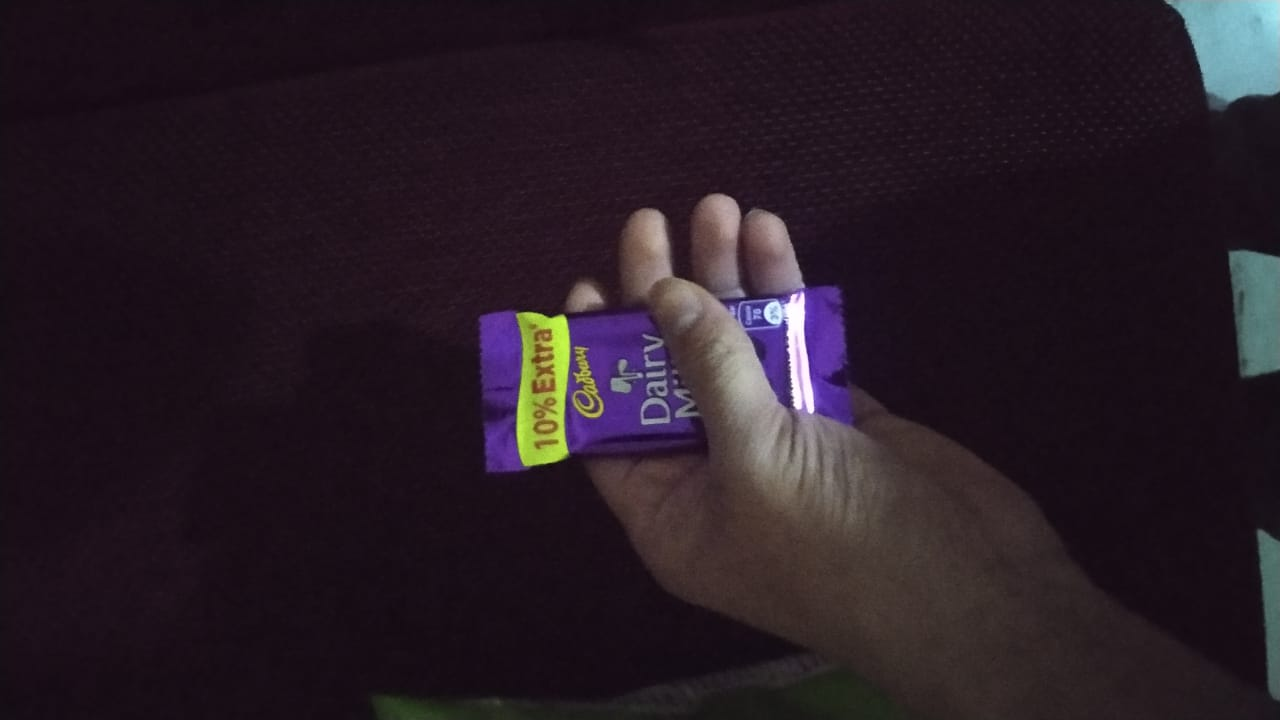dairy milk: (431, 279, 897, 488)
